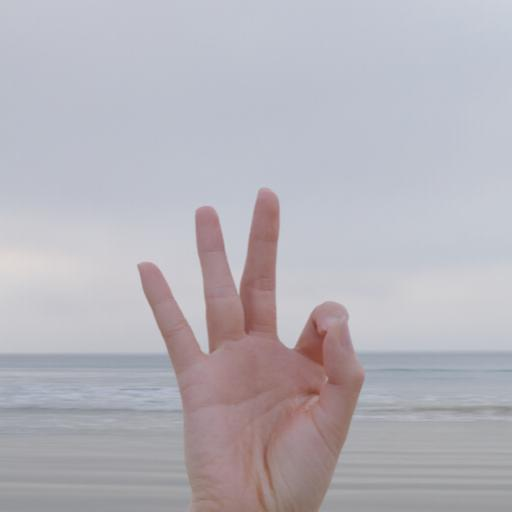F: (134, 183, 368, 512)
